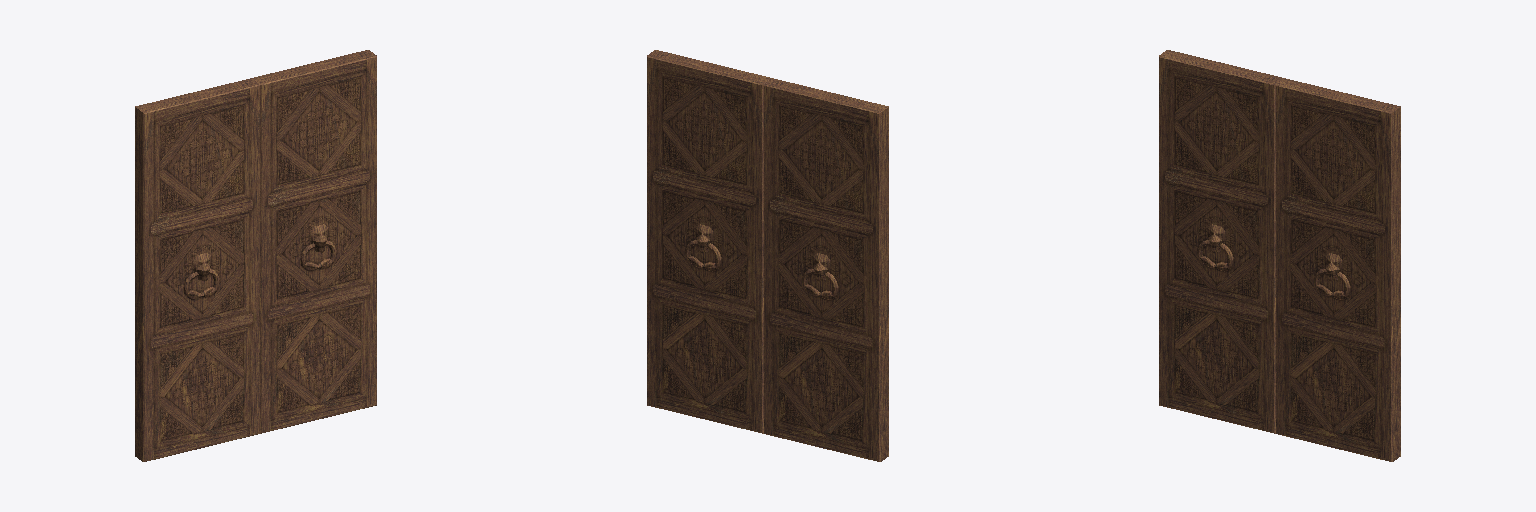
The picture shows the model from 3 angles: view 1: azimuth 30°, elevation 25°; view 2: azimuth 150°, elevation 25°; view 3: azimuth 330°, elevation 25°; orthographic projection.
Parts seen in each view (by area): view 1: mesh0; view 2: mesh0; view 3: mesh0.
Part boxes in pixels (left/top/right/bottom): mesh0: left=135, top=50, right=376, bottom=461; mesh0: left=647, top=50, right=888, bottom=461; mesh0: left=1159, top=50, right=1400, bottom=461.
Size of the model in its own units: 2.8 by 4 by 0.4001.
Materials: 1 (1 with a texture image).